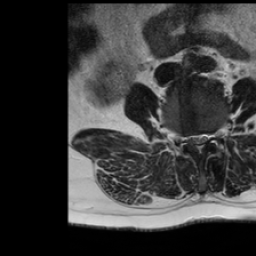CCS_normal: (194, 125, 201, 158)
LFS_stenosis: (208, 123, 215, 147)
LLS_normal: (201, 124, 208, 150)
RFS_stenosis: (180, 126, 188, 152)
RLS_stenosis: (186, 126, 194, 147)
